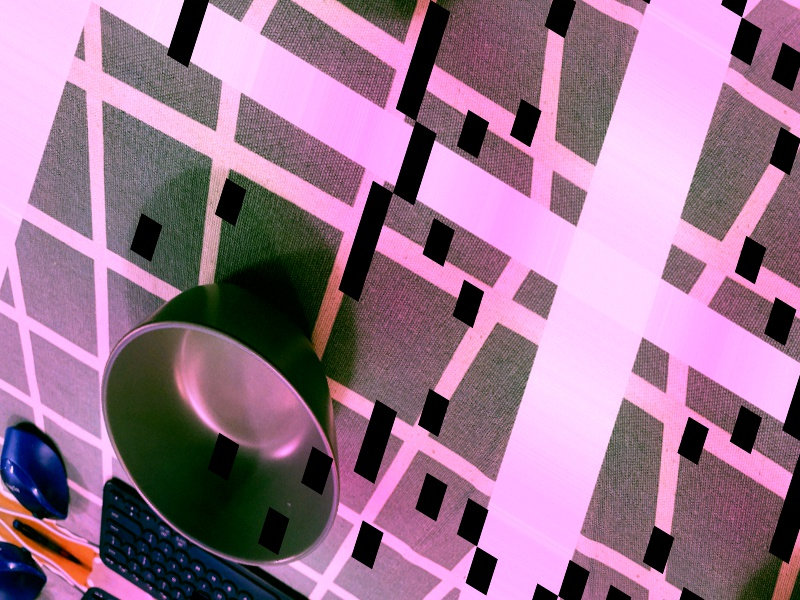bowl_big: (65, 218, 387, 599)
